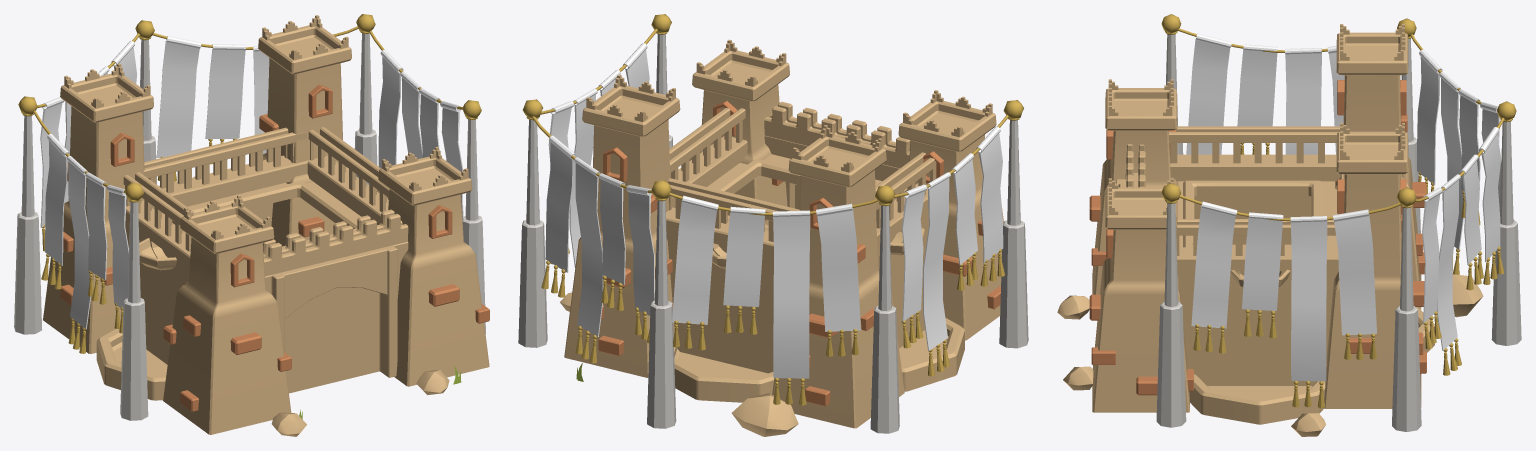
File: siruku_04.fbx
3 renders of one model, left to right at view 1: azimuth 30°, elevation 25°; view 2: azimuth 150°, elevation 25°; view 3: azimuth 270°, elevation 25°, orthographic. The views are drawn at different scales.
Visible parts, largest first — view 1: tawa_07_renga_31, hata; view 2: tawa_07_renga_31, hata; view 3: tawa_07_renga_31, hata.
Part boxes in pixels (<box>): tawa_07_renga_31: <box>14,14,489,436</box>; hata: <box>40,36,463,328</box>; tawa_07_renga_31: <box>518,14,1028,436</box>; hata: <box>545,43,1003,378</box>; tawa_07_renga_31: <box>1057,14,1521,436</box>; hata: <box>1186,33,1501,381</box>.
Bounding box in the file's own units: 1264 × 830 × 1320.
1 material, 1 textured.
